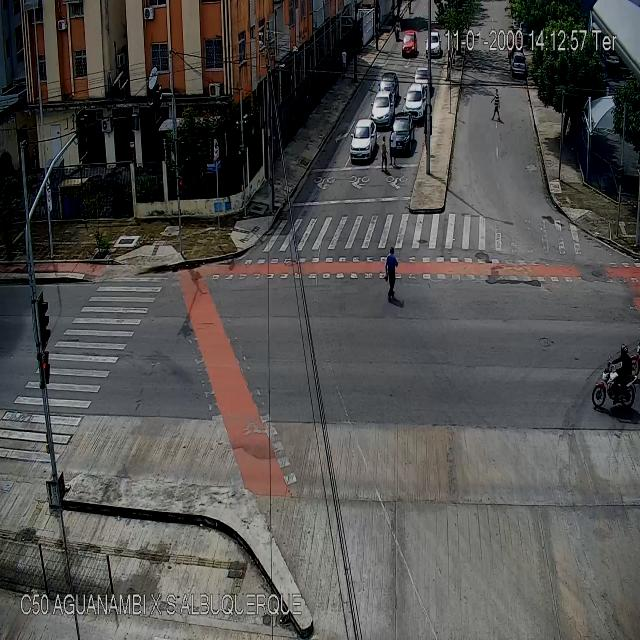Car: (351, 121, 376, 164), (391, 113, 414, 154), (404, 82, 426, 115), (373, 92, 395, 124), (378, 73, 397, 97), (402, 30, 418, 58), (425, 32, 441, 57), (512, 54, 526, 76), (416, 68, 430, 90)
Motorcycle: (592, 346, 636, 407), (394, 20, 400, 43)
